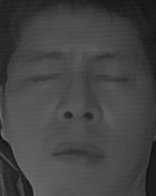blink: (22, 66, 63, 89), (93, 64, 132, 88)
mouth: (48, 135, 107, 172)
